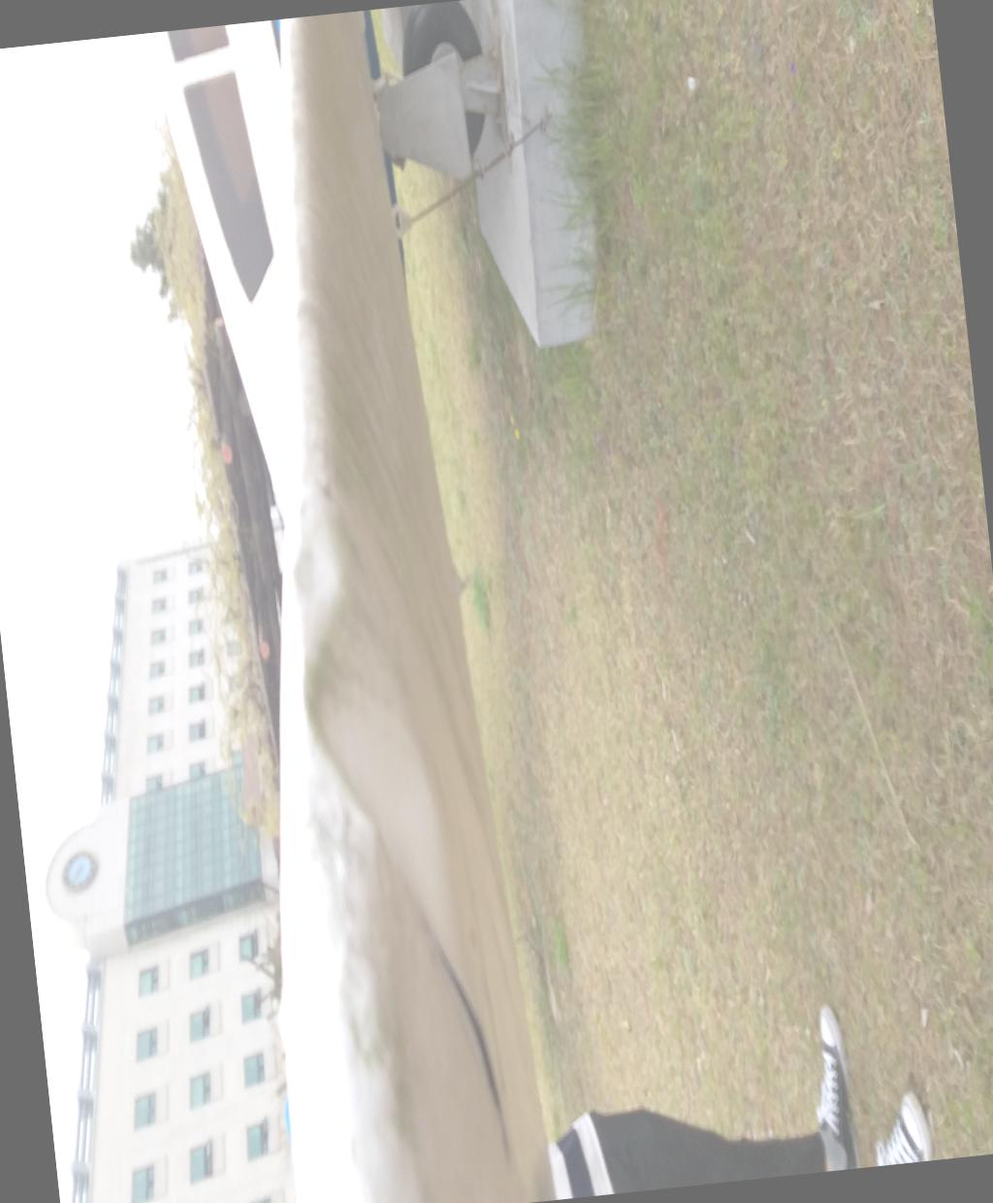dent: (213, 272, 413, 570), (185, 471, 252, 580)
